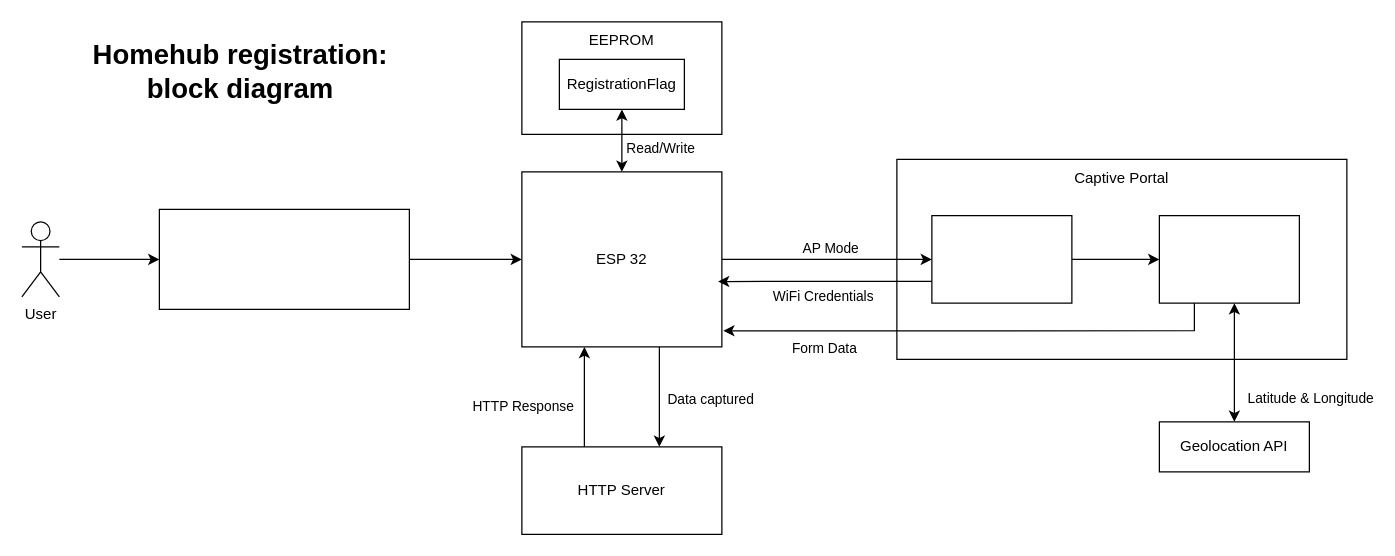
This 1395x556 diagram has some shape labels left out. Here are the shapes that lost their labels. From the top down, the centre of each, then its label:
the point at 283,258: User Interface
the point at 1001,258: WiFi Networks
the point at 1228,258: Homehub Registration Page
